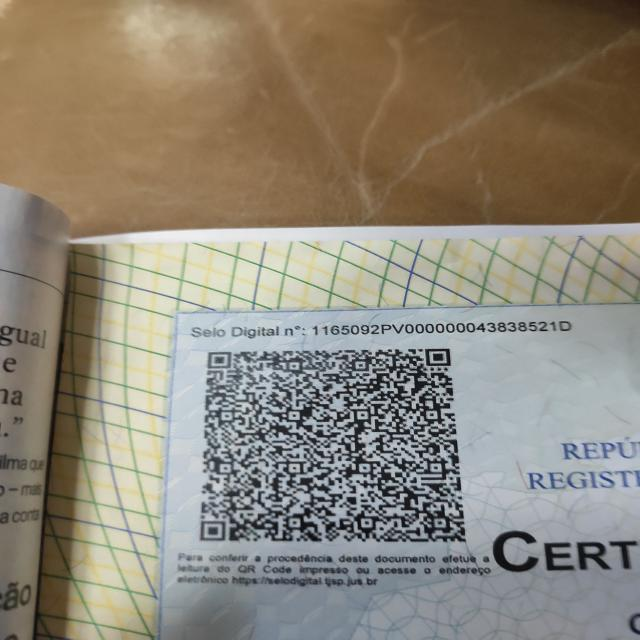qr-code: (202, 348, 467, 542)
